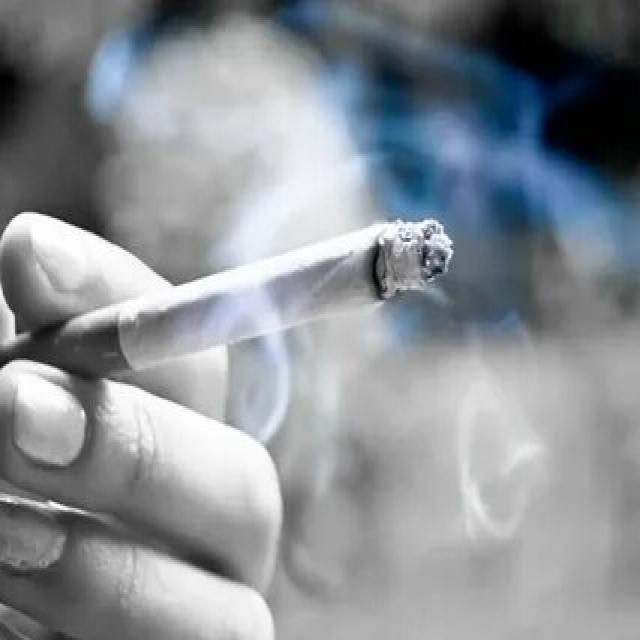cigarette: (0, 220, 459, 394)
